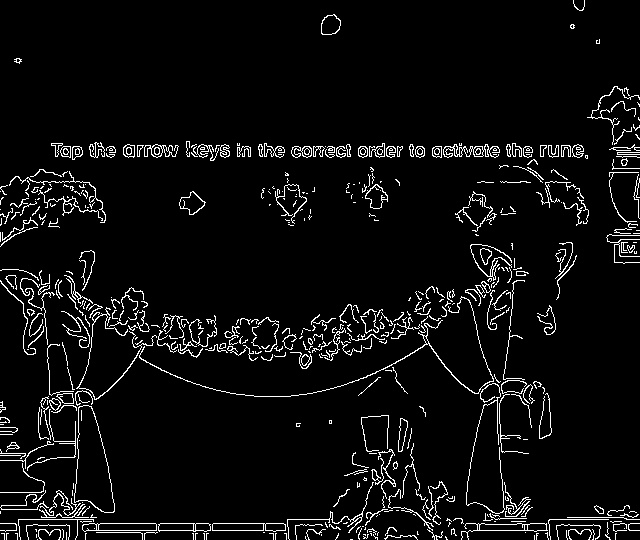down: (269, 176, 314, 229), (452, 187, 501, 235)
right: (172, 185, 213, 222)
up: (355, 179, 398, 220)
